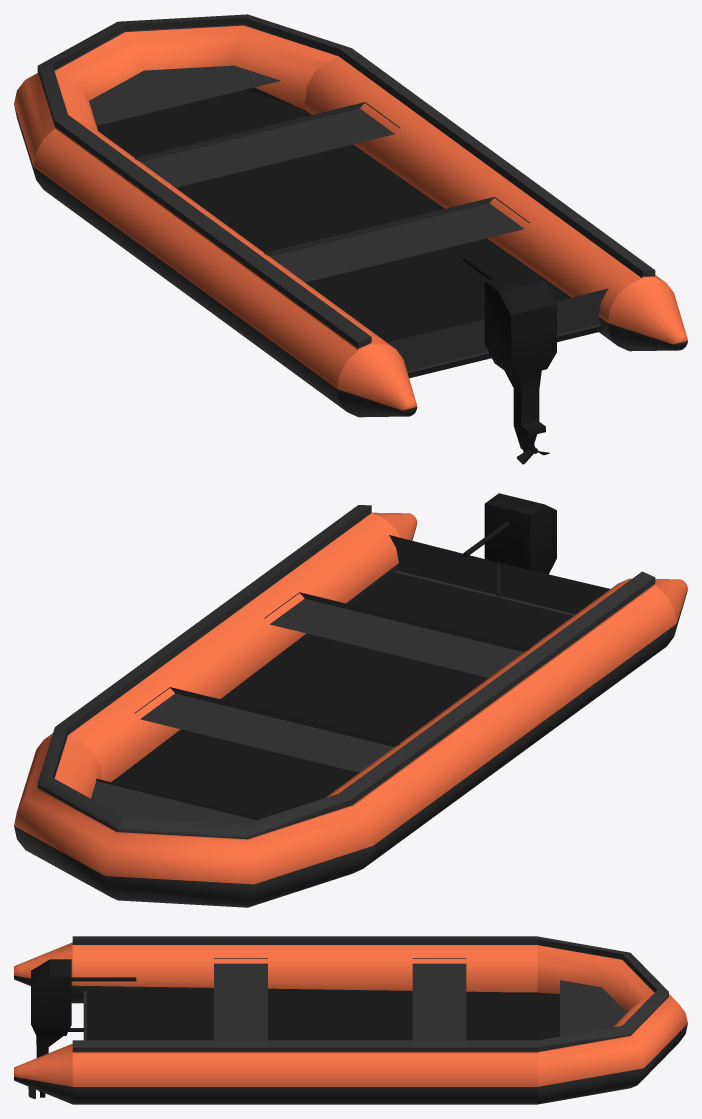
The model's file is Rescue_boat.glb.
3 views of the same model, one above another, from view 1: azimuth 30°, elevation 25°; view 2: azimuth 150°, elevation 25°; view 3: azimuth 270°, elevation 25° (orthographic). The views are drawn at different scales.
Visible parts, largest first — view 1: Cylinder, Cylinder.001; view 2: Cylinder, Cylinder.001; view 3: Cylinder, Cylinder.001.
Boxes of the visible parts, left/top/right/bottom form: Cylinder: left=14, top=14, right=687, bottom=417; Cylinder.001: left=463, top=257, right=556, bottom=464; Cylinder: left=14, top=505, right=687, bottom=907; Cylinder.001: left=463, top=493, right=556, bottom=574; Cylinder: left=14, top=936, right=687, bottom=1104; Cylinder.001: left=28, top=959, right=136, bottom=1098.
Bounding box in the file's own units: 3.1 × 1.48 × 6.96.
